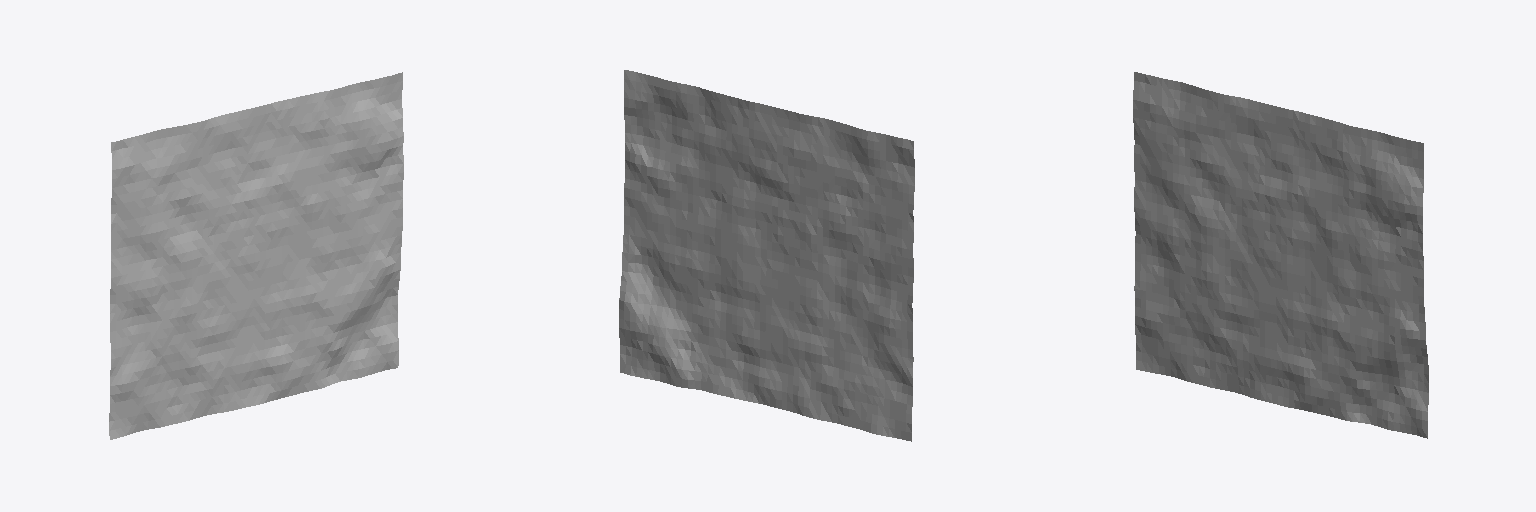
The model's file is terrain.obj.
3 views of the same model, side by side, from view 1: azimuth 30°, elevation 25°; view 2: azimuth 150°, elevation 25°; view 3: azimuth 330°, elevation 25° (orthographic).
Parts seen in each view (by area): view 1: Terrain; view 2: Terrain; view 3: Terrain.
Boxes of the visible parts, x1,y1,x2,y2 form: Terrain: [109, 72, 403, 439]; Terrain: [619, 70, 914, 441]; Terrain: [1133, 72, 1428, 438].
Bounding box in the file's own units: 1038 × 1020 × 50.